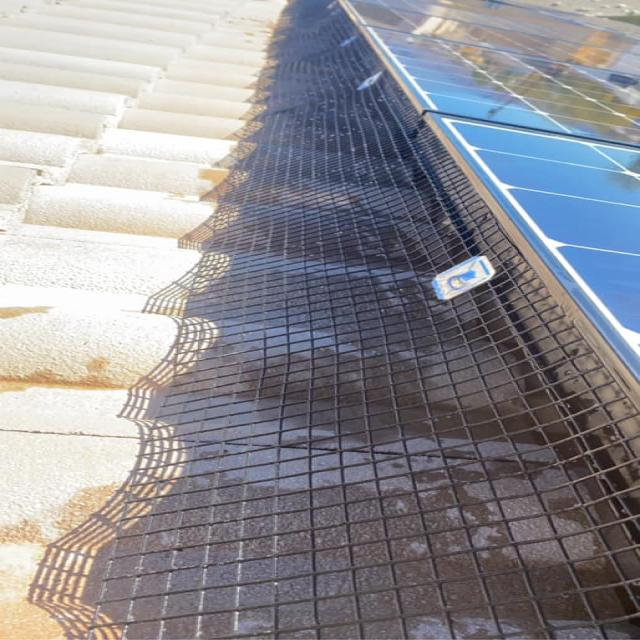clean-solar-panel: (477, 151, 640, 204)
